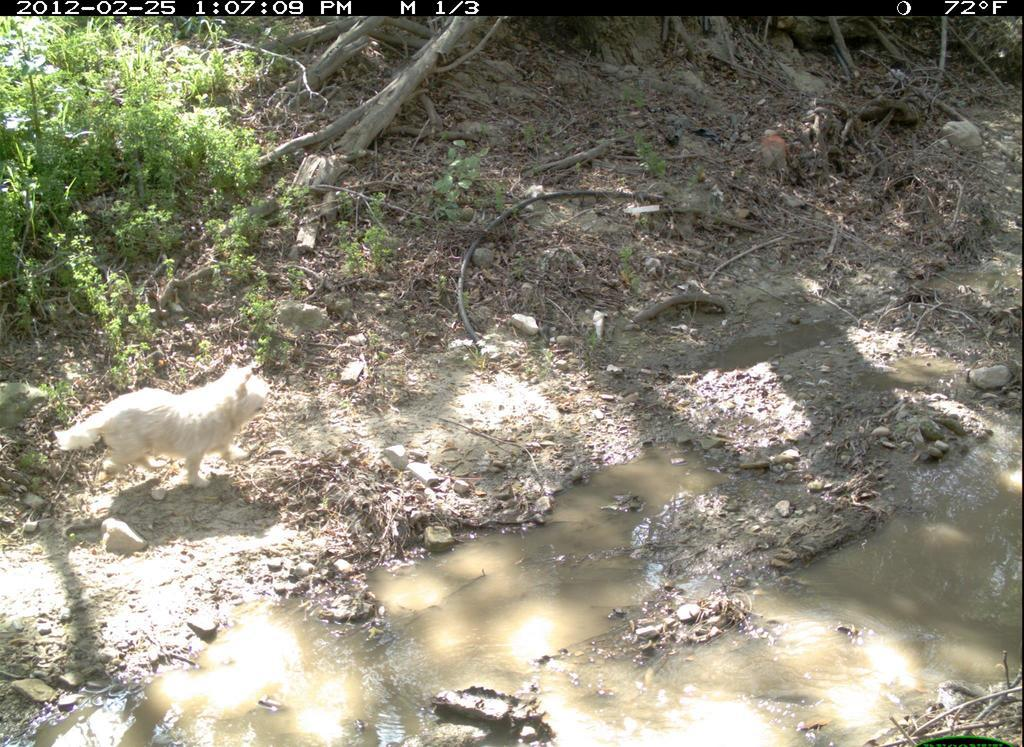dog: (36, 361, 274, 495)
